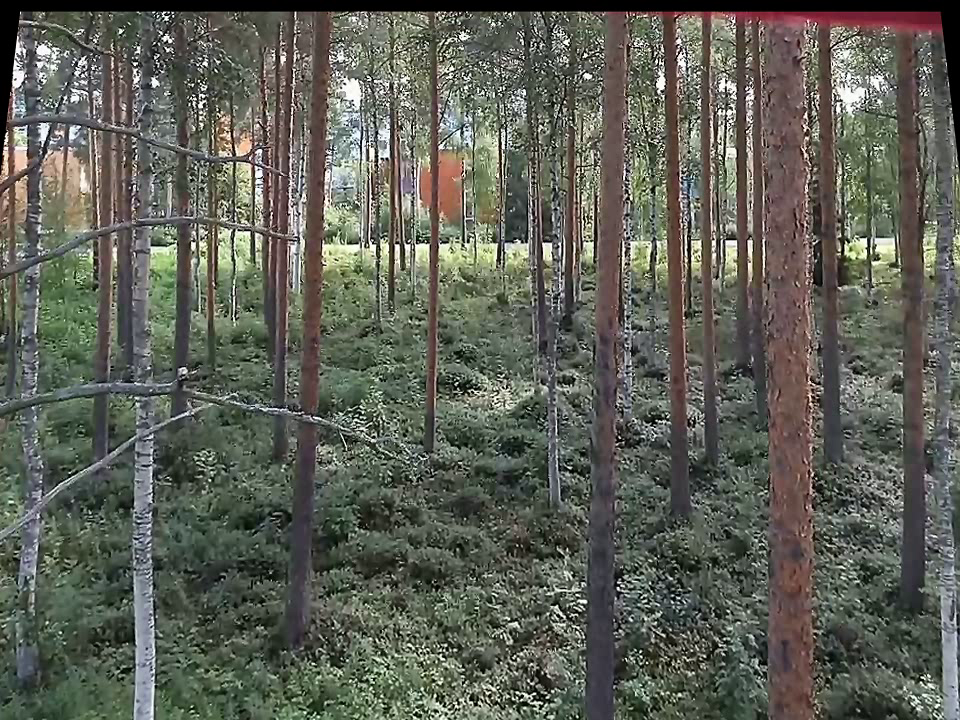branch: (8, 359, 411, 465), (4, 205, 301, 284), (9, 106, 285, 179), (23, 12, 129, 65)
trunk: (756, 24, 821, 710), (268, 10, 336, 654), (571, 14, 627, 711), (8, 25, 52, 684), (124, 10, 164, 715), (883, 36, 929, 624), (654, 15, 703, 525), (808, 27, 854, 471), (693, 18, 726, 480), (164, 24, 196, 463), (416, 30, 446, 467), (732, 20, 760, 367)
